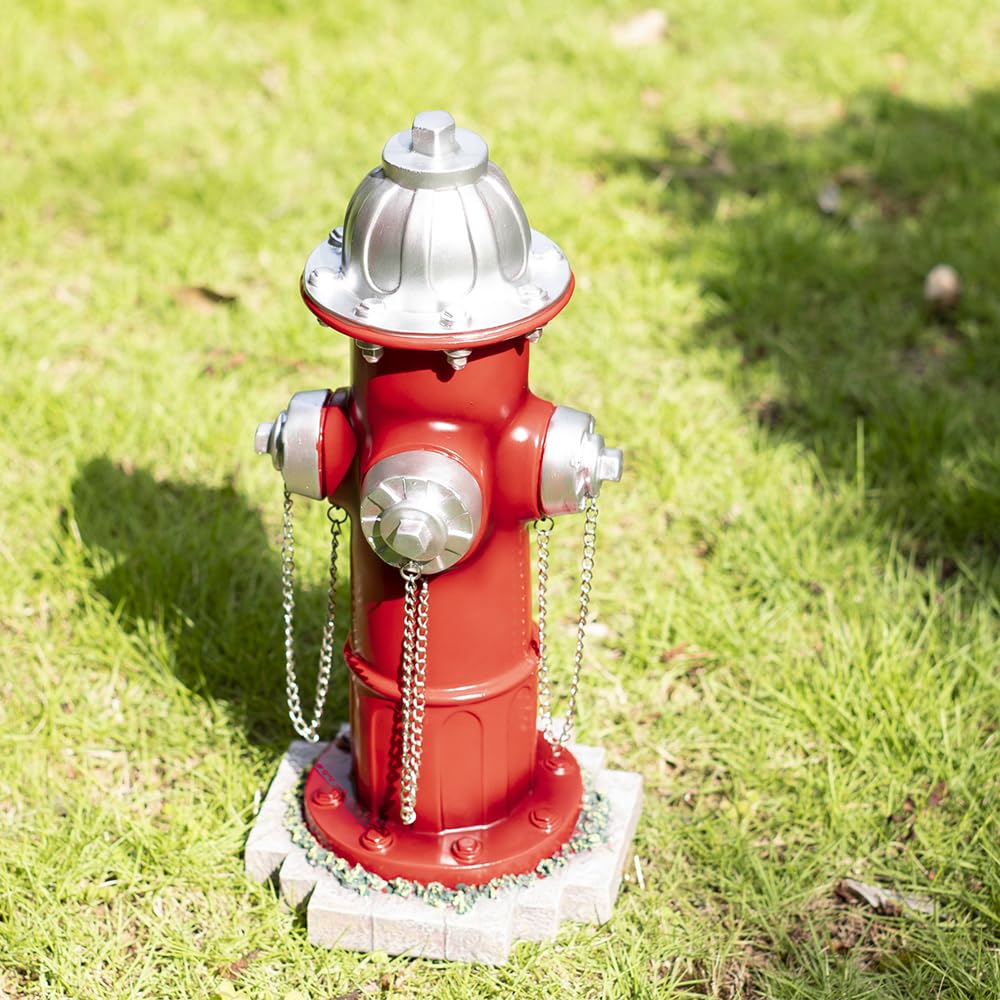FireHydrant: (226, 102, 691, 967)
